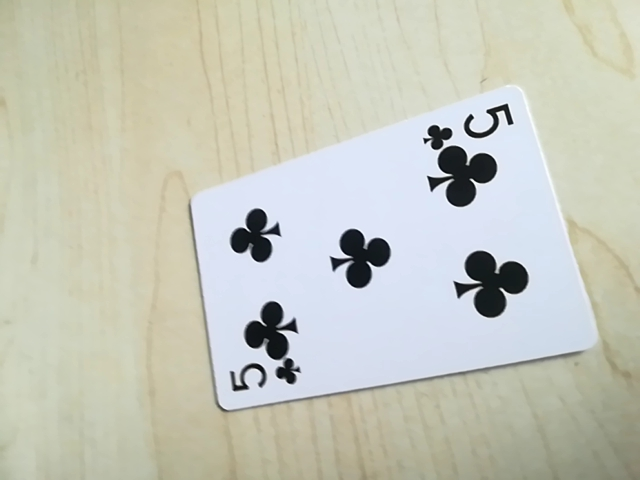mh 5: (421, 103, 514, 146), (225, 355, 305, 402)
